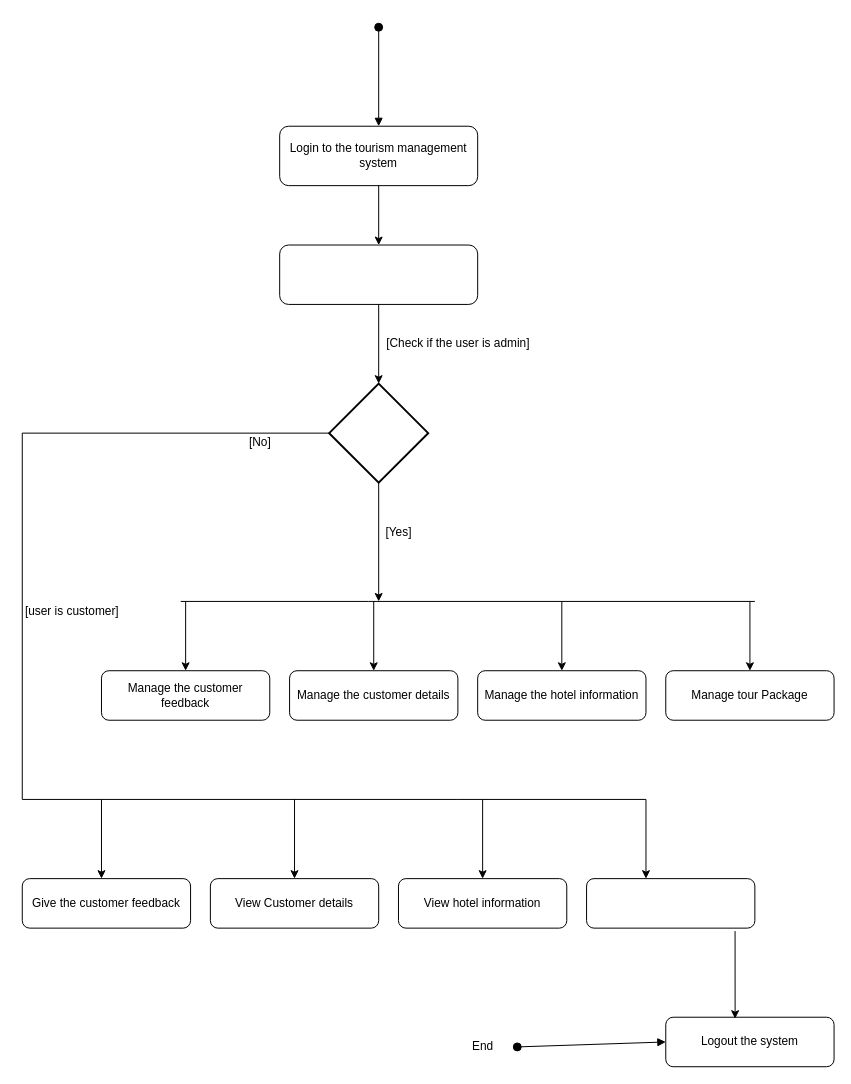
The diagram is 851 pixels wide and 1084 high, and some of its shapes have lost their labels. The shapes that lost their labels are listed below. From the top down, each one's centre as x and y in pixels, then its label:
the point at 378,274: Check user levels and permission
the point at 670,903: Booking and cancelling
